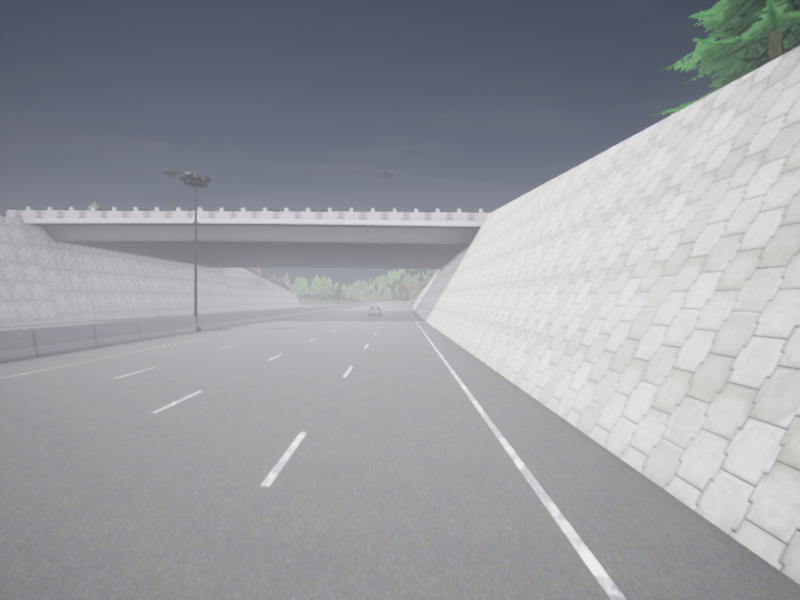vehicle: (369, 306, 381, 316)
